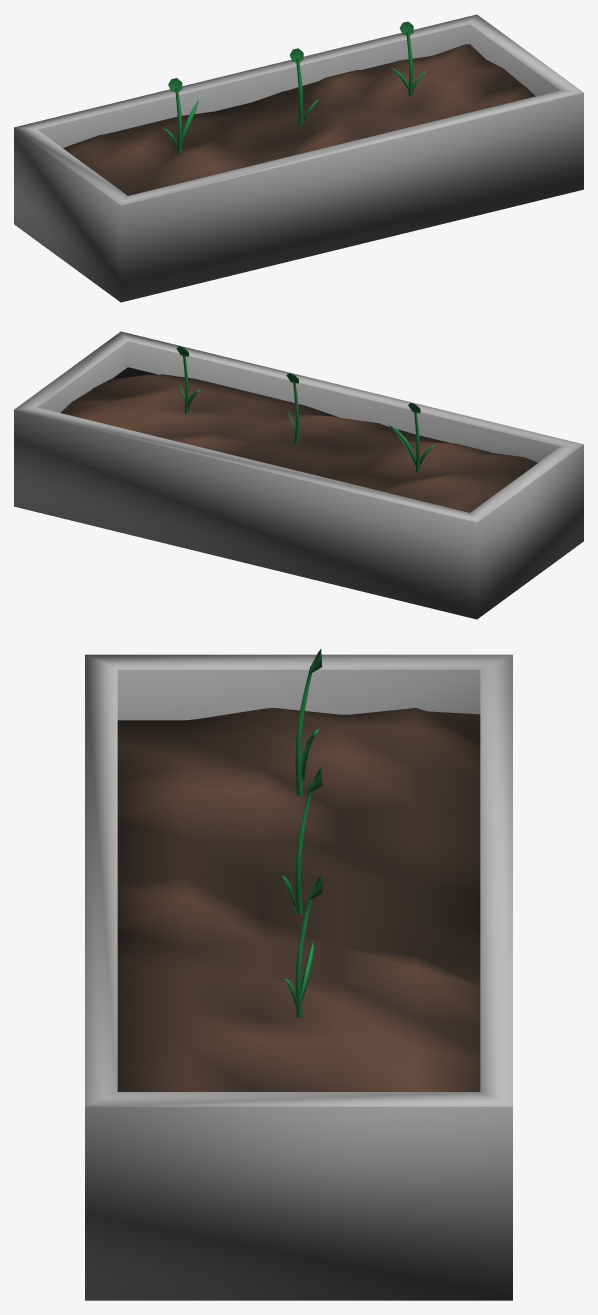
The picture shows the model from 3 angles, top to bottom: view 1: azimuth 30°, elevation 25°; view 2: azimuth 150°, elevation 25°; view 3: azimuth 270°, elevation 25°; orthographic projection. The views are drawn at different scales.
Visible parts, largest first — view 1: base.019; view 2: base.019; view 3: base.019.
Boxes of the visible parts, x1=… form: base.019: x1=14, y1=14, x2=583, y2=302; base.019: x1=14, y1=331, x2=583, y2=619; base.019: x1=85, y1=648, x2=512, y2=1300.
Bounding box in the file's own units: 0.5 × 0.1585 × 0.2.
